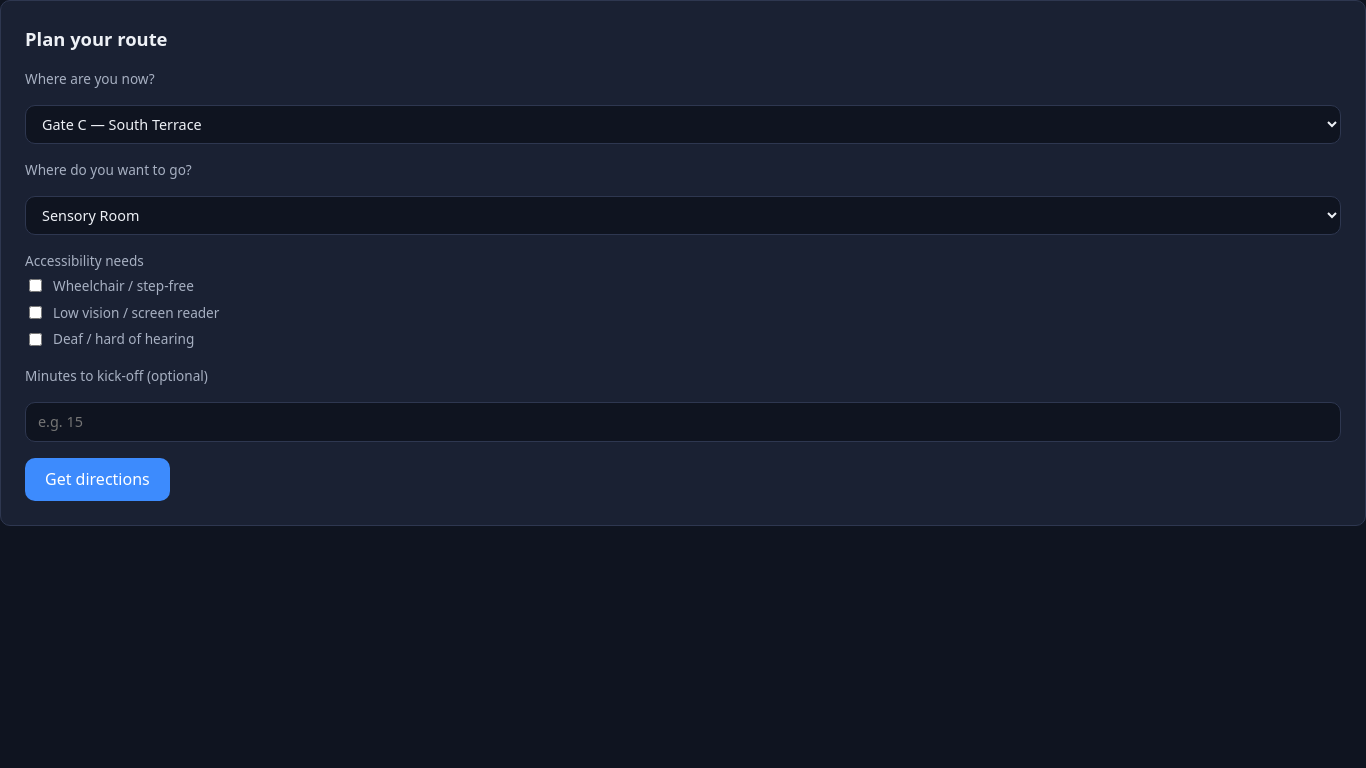
Test: RoutePlanner › shows an urgency warning when time is very tight
In the number field labelled "Minutes to kick-off (optional)": point(683, 422) [25, 402, 1341, 442], type "1"
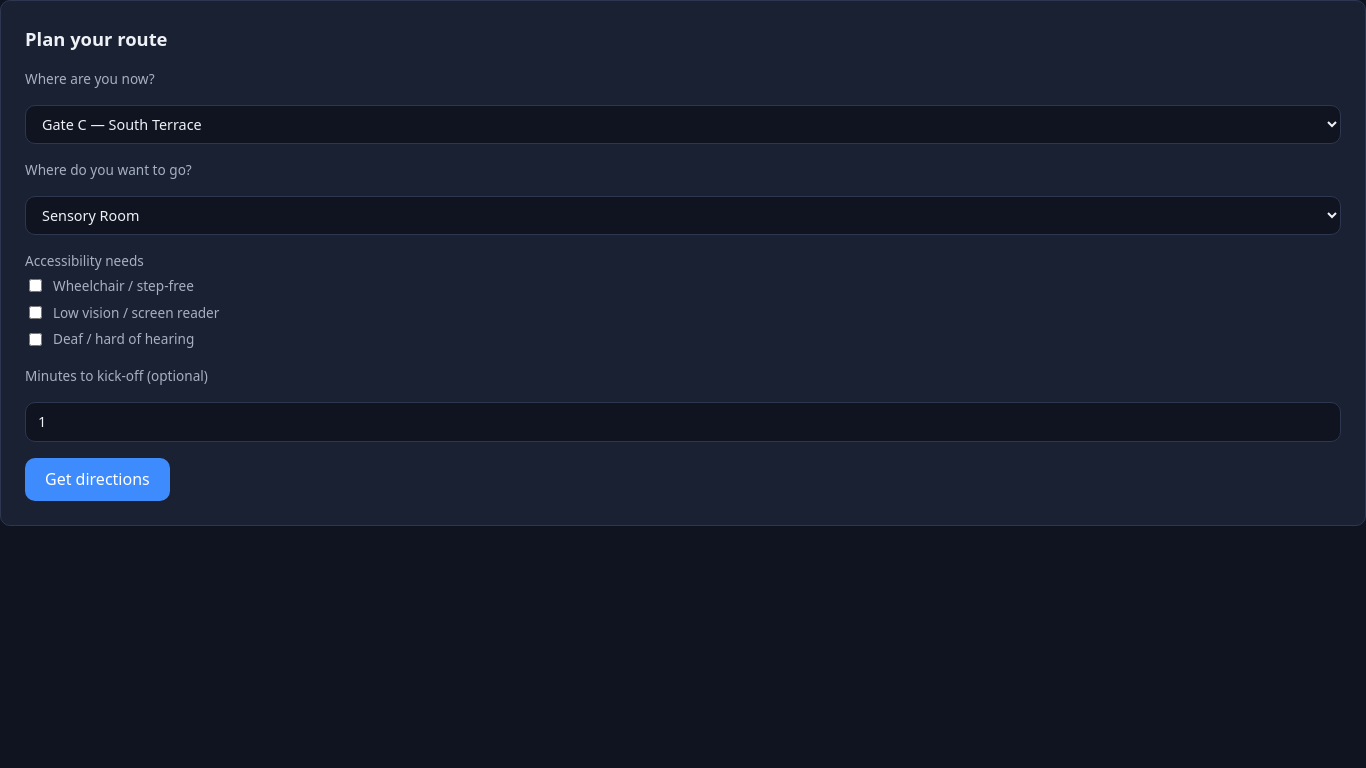
Click the button "Get directions": point(97, 479) [25, 458, 170, 501]
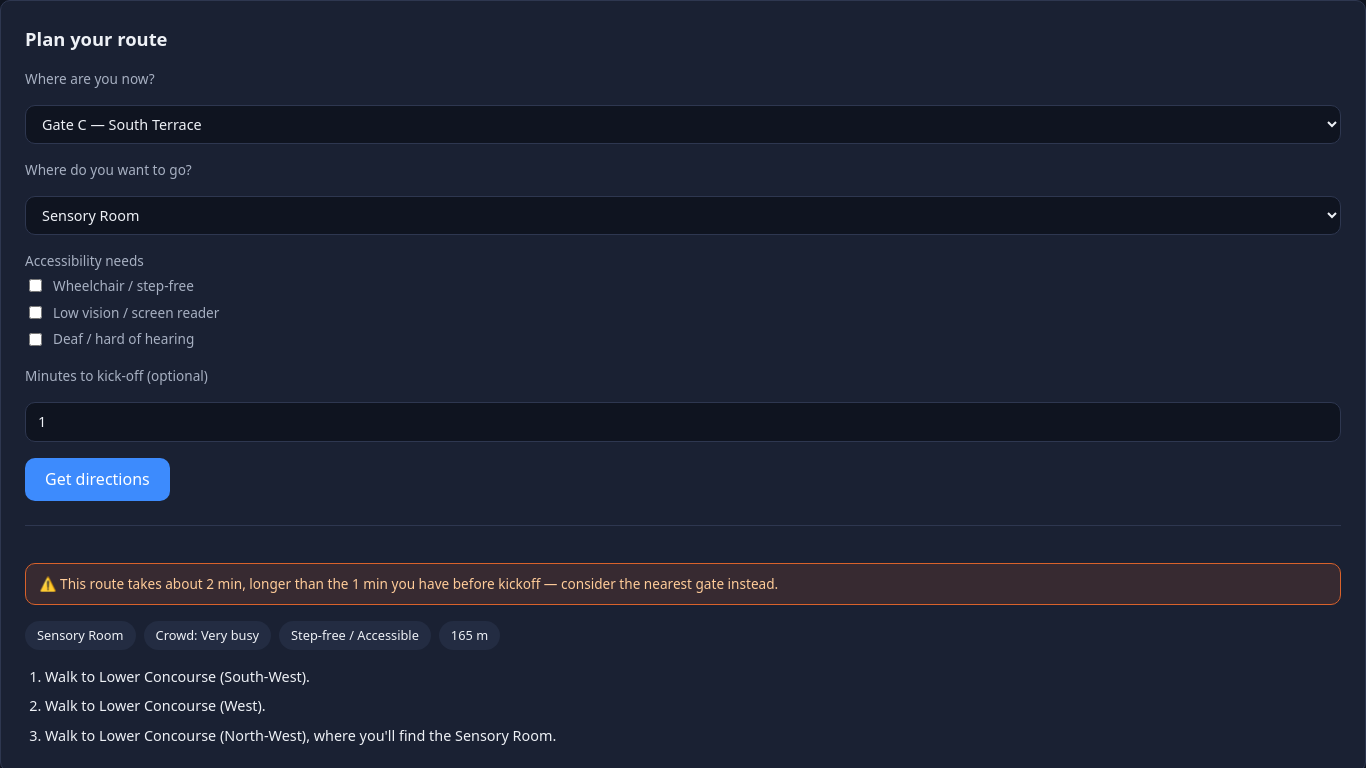
Result: the message is shown at [25, 564, 1341, 605]
